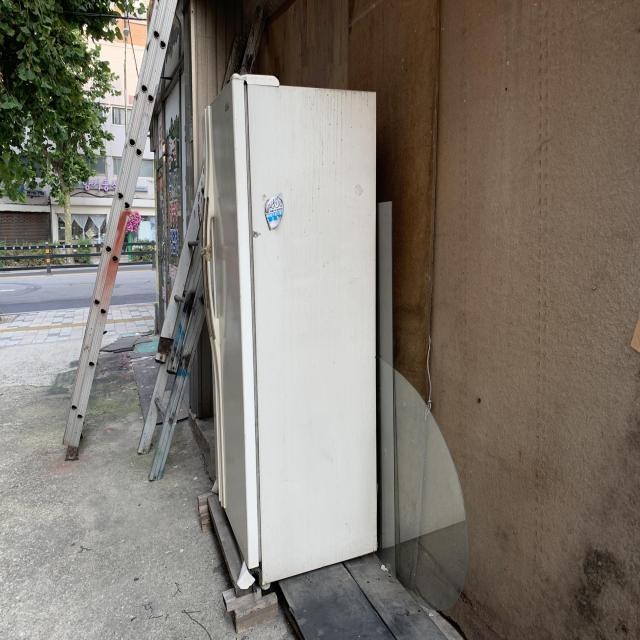refrigerator: (199, 73, 379, 587)
